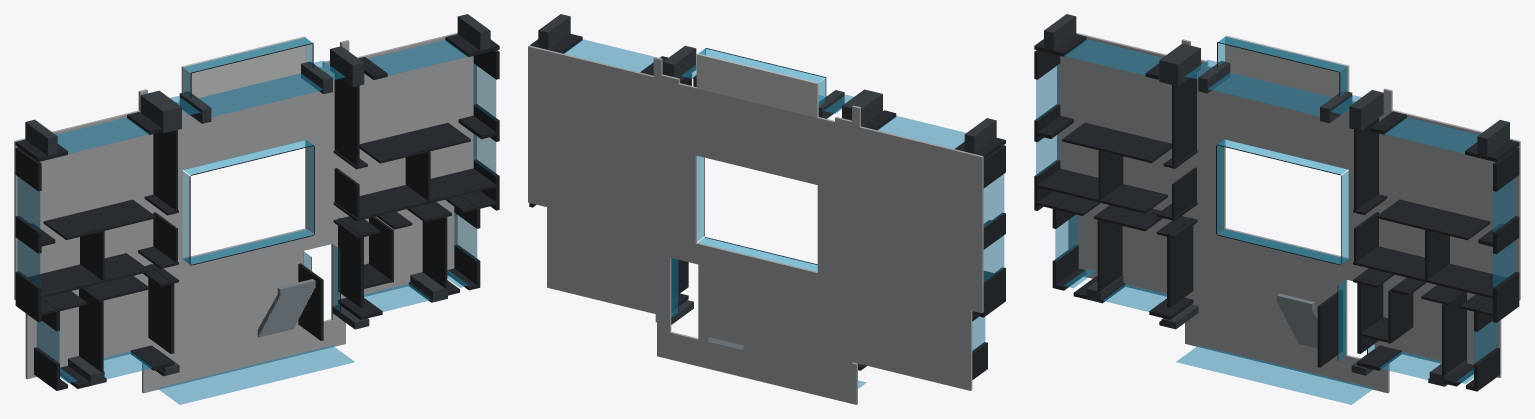
File: villa_2F.obj
3 views of the same model, side by side, from view 1: azimuth 30°, elevation 25°; view 2: azimuth 150°, elevation 25°; view 3: azimuth 330°, elevation 25° (orthographic).
Visible parts, largest first — view 1: 2F_Floor_Main, 2F_Floor_Bridge, 2F_Terrace_Family, 2F_Glass_016_ArtGallery_South, 2F_Wall_Interior_011_BService_Corridor, 2F_Wall_Interior_008_FamilyLounge_Gaming, 2F_Wall_Interior_004_AService_Corridor, 2F_Wall_Interior_001_GuestA_FamilyLounge, 2F_Wall_Interior_002_GuestA_ABath_ACloset, 2F_Wall_Interior_009_Gaming_BCloset_BBath, 2F_Glass_005_FamilyLounge_North, 2F_Wall_Exterior_015_Guest2_WestSouth (+46 smaller); view 2: 2F_Floor_Main, 2F_Floor_Bridge, 2F_Terrace_Family, 2F_Glass_007_Gaming_North, 2F_Glass_001_GuestA_North, 2F_Wall_Exterior_001_GuestA_NorthWest, 2F_Column_002_FamilyTerrace_West, 2F_Railing_FamilyTerrace_North, 2F_Railing_OpenToBelow_South, 2F_Glass_002_GuestA_West_North, 2F_Column_005_FamilyTerrace_East, 2F_Wall_Exterior_003_LeftCorridor_West (+9 smaller); view 3: 2F_Floor_Main, 2F_Floor_Bridge, 2F_Terrace_Family, 2F_Glass_016_ArtGallery_South, 2F_Wall_Interior_011_BService_Corridor, 2F_Wall_Interior_001_GuestA_FamilyLounge, 2F_Wall_Interior_008_FamilyLounge_Gaming, 2F_Wall_Interior_004_AService_Corridor, 2F_Wall_Interior_009_Gaming_BCloset_BBath, 2F_Wall_Interior_002_GuestA_ABath_ACloset, 2F_Glass_005_FamilyLounge_North, 2F_Wall_Interior_005_LeftCorridor_South (+46 smaller).
Boxes of the visible parts, x1=… form: 2F_Floor_Main: x1=14, y1=33, x2=476, y2=393; 2F_Floor_Bridge: x1=156, y1=133, x2=333, y2=280; 2F_Terrace_Family: x1=181, y1=36, x2=305, y2=97; 2F_Glass_016_ArtGallery_South: x1=157, y1=345, x2=354, y2=404; 2F_Wall_Interior_011_BService_Corridor: x1=333, y1=168, x2=496, y2=221; 2F_Wall_Interior_008_FamilyLounge_Gaming: x1=334, y1=74, x2=359, y2=218; 2F_Wall_Interior_004_AService_Corridor: x1=28, y1=246, x2=178, y2=297; 2F_Wall_Interior_001_GuestA_FamilyLounge: x1=153, y1=130, x2=177, y2=262; 2F_Wall_Interior_002_GuestA_ABath_ACloset: x1=43, y1=194, x2=178, y2=239; 2F_Wall_Interior_009_Gaming_BCloset_BBath: x1=333, y1=122, x2=470, y2=169; 2F_Glass_005_FamilyLounge_North: x1=198, y1=73, x2=322, y2=116; 2F_Wall_Exterior_015_Guest2_WestSouth: x1=338, y1=218, x2=380, y2=319; 2F_Floor_Main: x1=528, y1=45, x2=983, y2=404; 2F_Floor_Bridge: x1=669, y1=149, x2=843, y2=298; 2F_Terrace_Family: x1=696, y1=53, x2=818, y2=117; 2F_Glass_007_Gaming_North: x1=563, y1=39, x2=654, y2=72; 2F_Glass_001_GuestA_North: x1=877, y1=116, x2=965, y2=148; 2F_Wall_Exterior_001_GuestA_NorthWest: x1=954, y1=137, x2=1005, y2=188; 2F_Column_002_FamilyTerrace_West: x1=842, y1=89, x2=882, y2=126; 2F_Railing_FamilyTerrace_North: x1=699, y1=48, x2=824, y2=82; 2F_Railing_OpenToBelow_South: x1=698, y1=237, x2=817, y2=271; 2F_Glass_002_GuestA_West_North: x1=983, y1=174, x2=1004, y2=227; 2F_Column_005_FamilyTerrace_East: x1=662, y1=45, x2=696, y2=81; 2F_Wall_Exterior_003_LeftCorridor_West: x1=980, y1=267, x2=1005, y2=317; 2F_Floor_Main: x1=1057, y1=32, x2=1520, y2=393; 2F_Floor_Bridge: x1=1197, y1=133, x2=1375, y2=280; 2F_Terrace_Family: x1=1225, y1=35, x2=1349, y2=97; 2F_Glass_016_ArtGallery_South: x1=1176, y1=345, x2=1373, y2=404; 2F_Wall_Interior_011_BService_Corridor: x1=1353, y1=246, x2=1506, y2=298; 2F_Wall_Interior_001_GuestA_FamilyLounge: x1=1172, y1=73, x2=1196, y2=217; 2F_Wall_Interior_008_FamilyLounge_Gaming: x1=1354, y1=118, x2=1378, y2=262; 2F_Wall_Interior_004_AService_Corridor: x1=1037, y1=168, x2=1197, y2=220; 2F_Wall_Interior_009_Gaming_BCloset_BBath: x1=1353, y1=194, x2=1490, y2=240; 2F_Wall_Interior_002_GuestA_ABath_ACloset: x1=1062, y1=122, x2=1197, y2=168; 2F_Glass_005_FamilyLounge_North: x1=1208, y1=72, x2=1332, y2=116; 2F_Wall_Interior_005_LeftCorridor_South: x1=1037, y1=191, x2=1197, y2=238.
Bounding box in the file's own units: 37.62 × 24.66 × 3.6.
